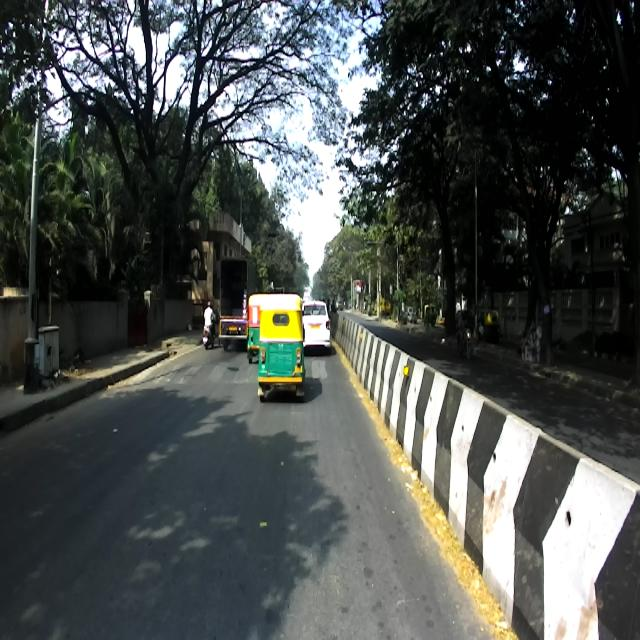auto ahead at: (258, 299, 307, 409)
electric pole ahead at: (17, 0, 62, 398)
